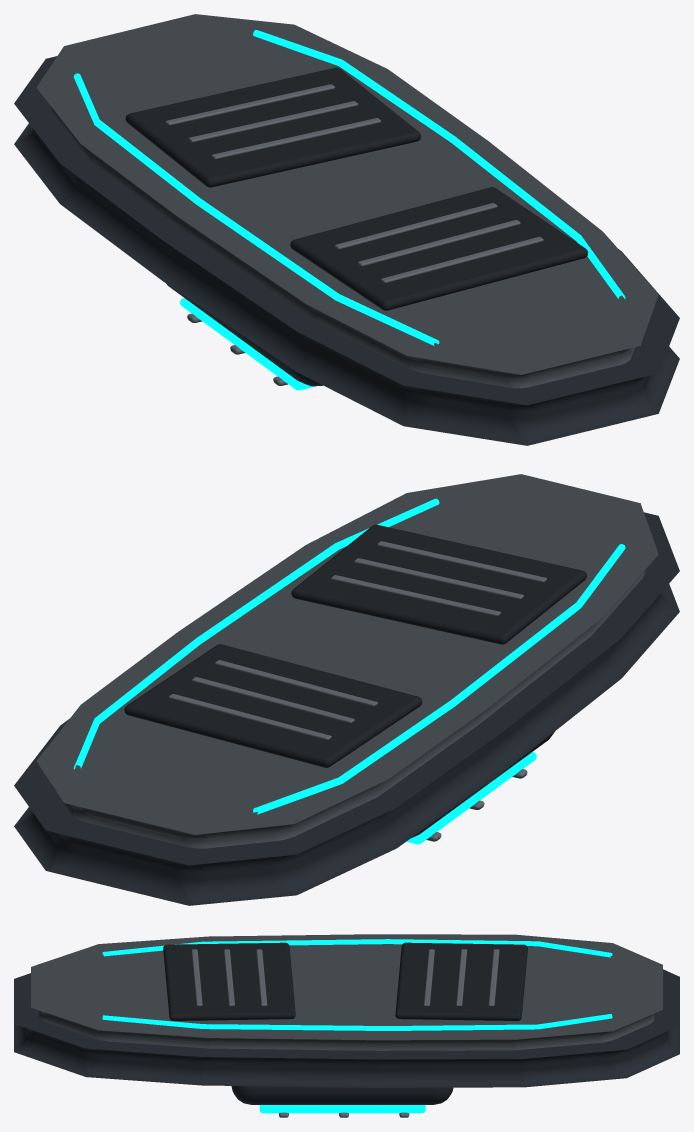
File: hoverboard-original.glb
3 renders of one model, top to bottom at view 1: azimuth 30°, elevation 25°; view 2: azimuth 150°, elevation 25°; view 3: azimuth 270°, elevation 25°, orthographic. The views are drawn at different scales.
Parts seen in each view (by area): view 1: Deck Ceramic Upper Shell, Deck Graphite Monocoque, Rear Foot Pad, Forward Foot Pad, Port Energy Channel, Starboard Energy Channel, Port Lift Emitter, Forward Grip Groove 3, Forward Grip Groove 2, Forward Grip Groove 1, Rear Grip Groove 2, Rear Grip Groove 3 (+2 smaller); view 2: Deck Ceramic Upper Shell, Deck Graphite Monocoque, Forward Foot Pad, Rear Foot Pad, Port Energy Channel, Starboard Energy Channel, Port Lift Emitter, Rear Grip Groove 3, Rear Grip Groove 1, Rear Grip Groove 2, Forward Grip Groove 2, Forward Grip Groove 3 (+1 smaller); view 3: Deck Ceramic Upper Shell, Deck Graphite Monocoque, Rear Foot Pad, Forward Foot Pad, Starboard Lift Pod Housing, Starboard Energy Channel, Port Energy Channel, Starboard Lift Emitter, Forward Grip Groove 3, Rear Grip Groove 2, Forward Grip Groove 1, Forward Grip Groove 2 (+2 smaller).
Boxes of the visible parts, x1=… form: Deck Ceramic Upper Shell: x1=36, y1=14, x2=658, y2=388; Deck Graphite Monocoque: x1=14, y1=56, x2=679, y2=445; Rear Foot Pad: x1=290, y1=187, x2=587, y2=310; Forward Foot Pad: x1=125, y1=67, x2=421, y2=187; Port Energy Channel: x1=73, y1=73, x2=439, y2=345; Starboard Energy Channel: x1=253, y1=30, x2=625, y2=298; Port Lift Emitter: x1=180, y1=298, x2=316, y2=390; Forward Grip Groove 3: x1=165, y1=84, x2=334, y2=125; Forward Grip Groove 2: x1=188, y1=101, x2=358, y2=142; Forward Grip Groove 1: x1=211, y1=118, x2=381, y2=159; Rear Grip Groove 2: x1=357, y1=220, x2=520, y2=266; Rear Grip Groove 3: x1=334, y1=203, x2=497, y2=249; Deck Ceramic Upper Shell: x1=36, y1=474, x2=658, y2=848; Deck Graphite Monocoque: x1=14, y1=512, x2=679, y2=905; Forward Foot Pad: x1=124, y1=644, x2=422, y2=767; Rear Foot Pad: x1=291, y1=524, x2=586, y2=644; Port Energy Channel: x1=253, y1=544, x2=625, y2=814; Starboard Energy Channel: x1=73, y1=498, x2=439, y2=769; Port Lift Emitter: x1=406, y1=752, x2=536, y2=844; Rear Grip Groove 3: x1=331, y1=575, x2=500, y2=616; Rear Grip Groove 1: x1=377, y1=541, x2=546, y2=582; Rear Grip Groove 2: x1=354, y1=558, x2=523, y2=599; Forward Grip Groove 2: x1=192, y1=677, x2=354, y2=723; Forward Grip Groove 3: x1=168, y1=694, x2=331, y2=740; Deck Ceramic Upper Shell: x1=31, y1=934, x2=662, y2=1050; Deck Graphite Monocoque: x1=14, y1=969, x2=679, y2=1087; Rear Foot Pad: x1=163, y1=942, x2=295, y2=1020; Forward Foot Pad: x1=395, y1=942, x2=527, y2=1020; Starboard Lift Pod Housing: x1=231, y1=1086, x2=453, y2=1104; Starboard Energy Channel: x1=102, y1=1014, x2=612, y2=1030; Port Energy Channel: x1=102, y1=939, x2=612, y2=957; Starboard Lift Emitter: x1=259, y1=1105, x2=425, y2=1113; Forward Grip Groove 3: x1=488, y1=949, x2=499, y2=1006; Rear Grip Groove 2: x1=224, y1=949, x2=234, y2=1006; Forward Grip Groove 1: x1=424, y1=949, x2=434, y2=1006; Forward Grip Groove 2: x1=456, y1=949, x2=467, y2=1006.
Size of the model in its own units: 0.936 by 0.3725 by 2.27.
